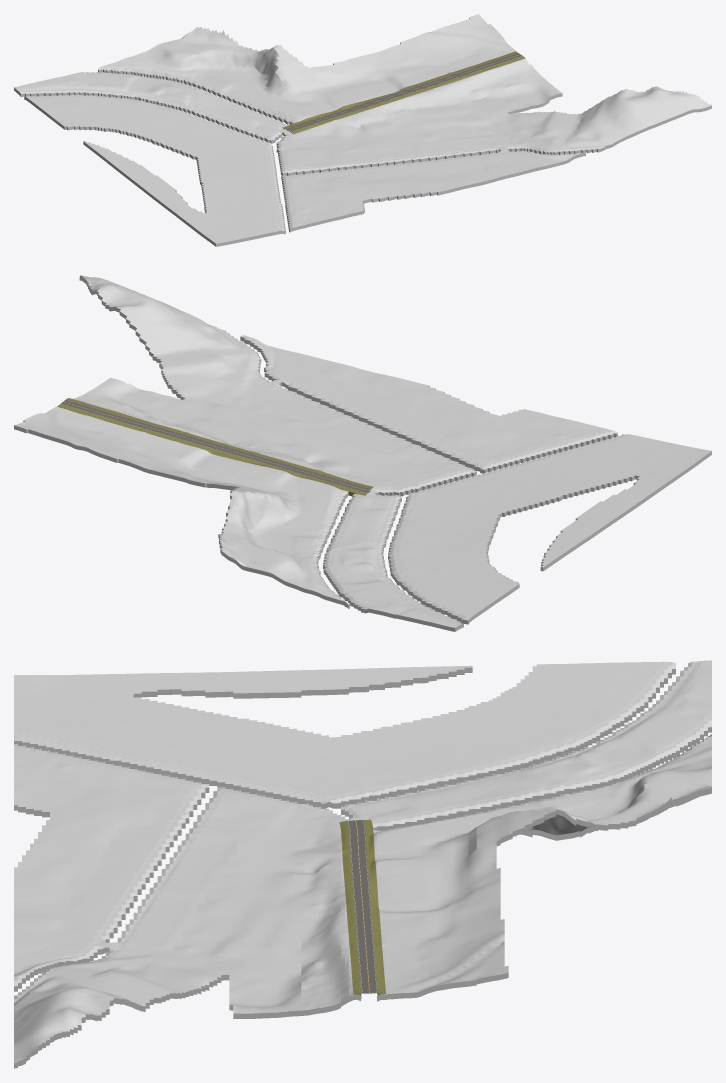
The model's file is conz_84.glb.
3 renders of one model, top to bottom at view 1: azimuth 30°, elevation 25°; view 2: azimuth 150°, elevation 25°; view 3: azimuth 270°, elevation 25°, orthographic. The views are drawn at different scales.
Parts seen in each view (by area): view 1: terrain84, road84, verge84L, verge84R; view 2: terrain84, road84, verge84R, verge84L; view 3: terrain84, road84, verge84L, verge84R.
Part boxes in pixels (x1,y1,x2,y2): terrain84: [14, 14, 711, 246]; road84: [285, 53, 522, 131]; verge84L: [291, 56, 525, 133]; verge84R: [282, 51, 517, 129]; terrain84: [14, 275, 711, 631]; road84: [61, 399, 371, 492]; verge84R: [57, 404, 367, 496]; verge84L: [66, 398, 373, 488]; terrain84: [14, 660, 711, 1068]; road84: [347, 820, 377, 993]; verge84L: [339, 820, 361, 998]; verge84R: [363, 819, 385, 995].
Bounding box in the file's own units: 496 × 35.61 × 350.
